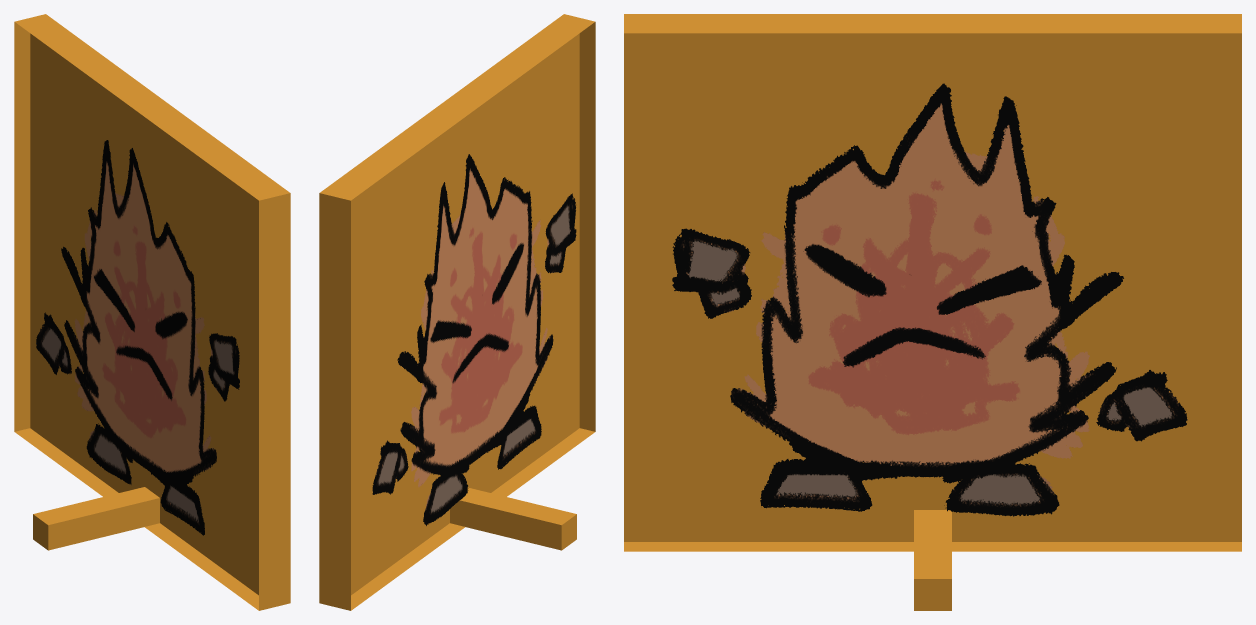
Rendered from NewFire.fbx.
The picture shows the model from 3 angles, left to right: view 1: azimuth 30°, elevation 25°; view 2: azimuth 150°, elevation 25°; view 3: azimuth 270°, elevation 25°; orthographic projection. The views are drawn at different scales.
Parts seen in each view (by area): view 1: Thing1; view 2: Thing1; view 3: Thing1.
Part boxes in pixels (x1=…): Thing1: x1=14, y1=14, x2=290, y2=610; Thing1: x1=319, y1=14, x2=595, y2=610; Thing1: x1=624, y1=14, x2=1241, y2=610.
Size of the model in its own units: 70.11 by 123 by 133.
Materials: 2 (1 with a texture image).
